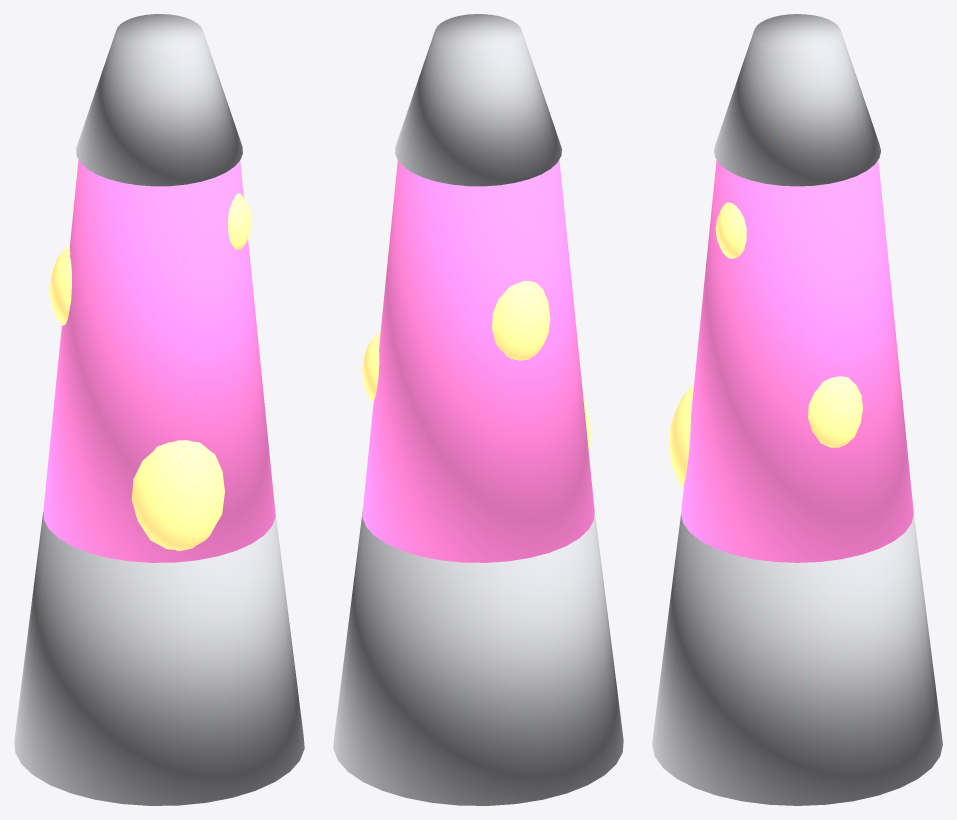
The model's file is lava_lamp.glb.
3 views of the same model, side by side, from view 1: azimuth 30°, elevation 25°; view 2: azimuth 150°, elevation 25°; view 3: azimuth 270°, elevation 25° (orthographic).
Parts seen in each view (by area): view 1: lava_lamp; view 2: lava_lamp; view 3: lava_lamp.
Part boxes in pixels (bbox=[...]): lava_lamp: bbox=[14, 14, 304, 805]; lava_lamp: bbox=[333, 14, 623, 805]; lava_lamp: bbox=[652, 14, 942, 805].
Size of the model in its own units: 4 by 10.8 by 4.
1 material, 1 textured.
